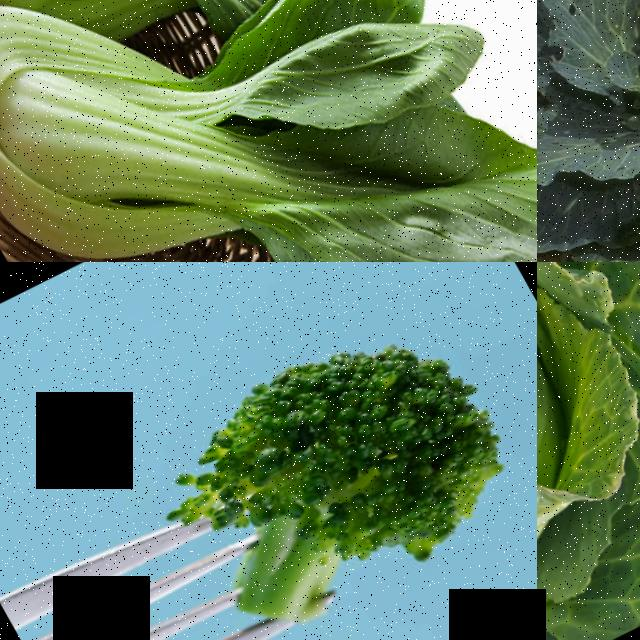bok choy: (0, 0, 475, 262), (0, 0, 426, 85)
broccoli: (153, 262, 537, 640)
cabbage: (537, 262, 640, 640), (537, 0, 640, 262), (537, 134, 640, 262)
